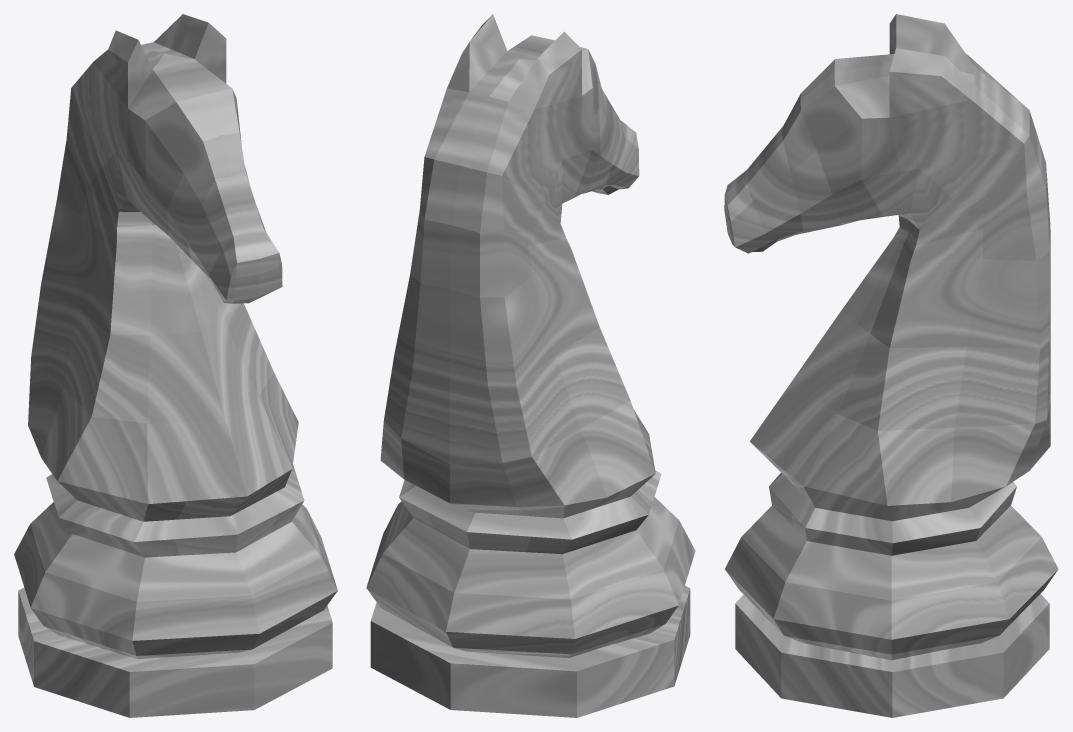
File: chessKnight512.glb
3 renders of one model, left to right at view 1: azimuth 30°, elevation 25°; view 2: azimuth 150°, elevation 25°; view 3: azimuth 270°, elevation 25°, orthographic.
Parts seen in each view (by area): view 1: Knight.001; view 2: Knight.001; view 3: Knight.001.
Part boxes in pixels (bbox=[...]): Knight.001: bbox=[14, 14, 337, 717]; Knight.001: bbox=[366, 14, 695, 717]; Knight.001: bbox=[724, 14, 1058, 717].
Size of the model in its own units: 1.99 by 4.05 by 1.98.
Materials: 1 (1 with a texture image).
